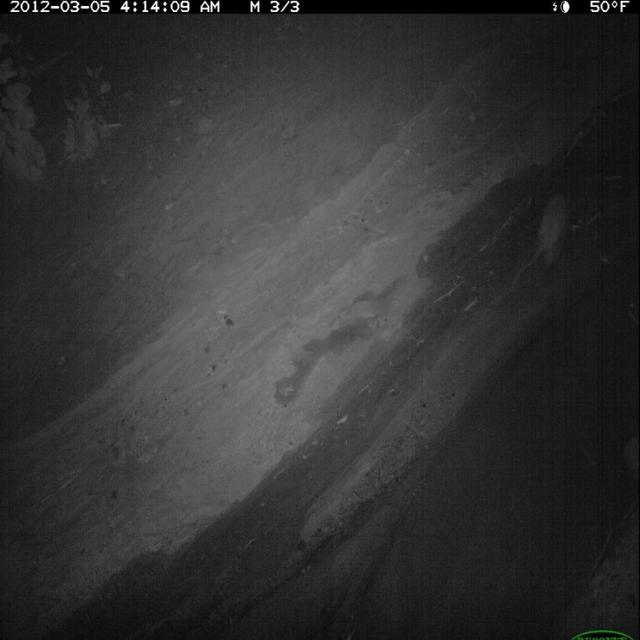opossum: (508, 186, 572, 302)
